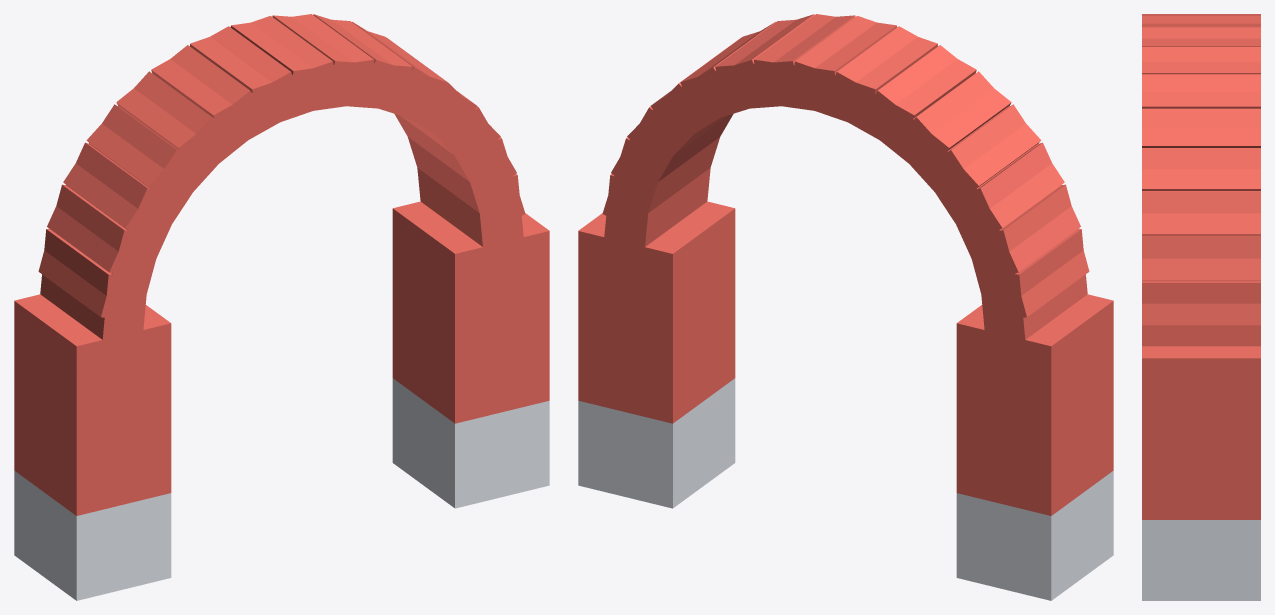
Rendered from Item_Magnet.fbx.
The picture shows the model from 3 angles, left to right: view 1: azimuth 30°, elevation 25°; view 2: azimuth 150°, elevation 25°; view 3: azimuth 270°, elevation 25°; orthographic projection. The views are drawn at different scales.
Parts seen in each view (by area): view 1: Item_Magnet; view 2: Item_Magnet; view 3: Item_Magnet.
Boxes of the visible parts, x1,y1,x2,y2 form: Item_Magnet: (14,14,549,600); Item_Magnet: (578,14,1113,600); Item_Magnet: (1142,14,1260,600).
Size of the model in its own units: 0.7 by 0.6744 by 0.16.
